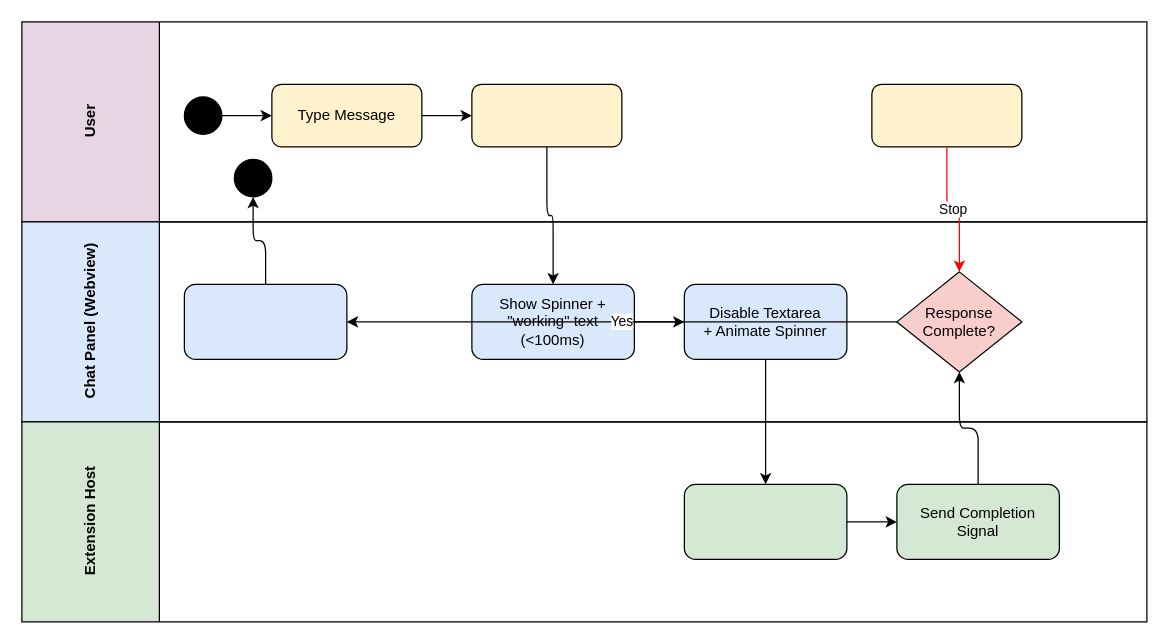
The diagram is 1169 pixels wide and 644 high, and some of its shapes have lost their labels. Here are the shapes that lost their labels. From the top down, the centre of each, then its label:
At [546,115]: "Submit Message (Enter / Send)".
At [946,115]: "Click Stop (optional)".
At [265,321]: "Hide Spinner Restore Input".
At [765,521]: "AI Processes Request".
